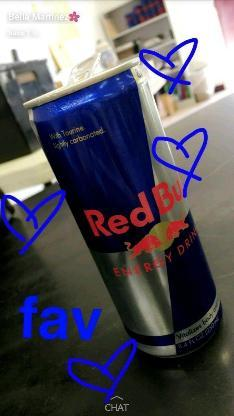Can: (24, 56, 222, 358)
